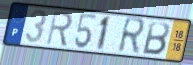1: (97, 14, 114, 53)
3: (25, 9, 49, 46)
5: (72, 13, 98, 51)
B: (140, 20, 171, 57)
R: (116, 16, 148, 57), (45, 10, 74, 48)
